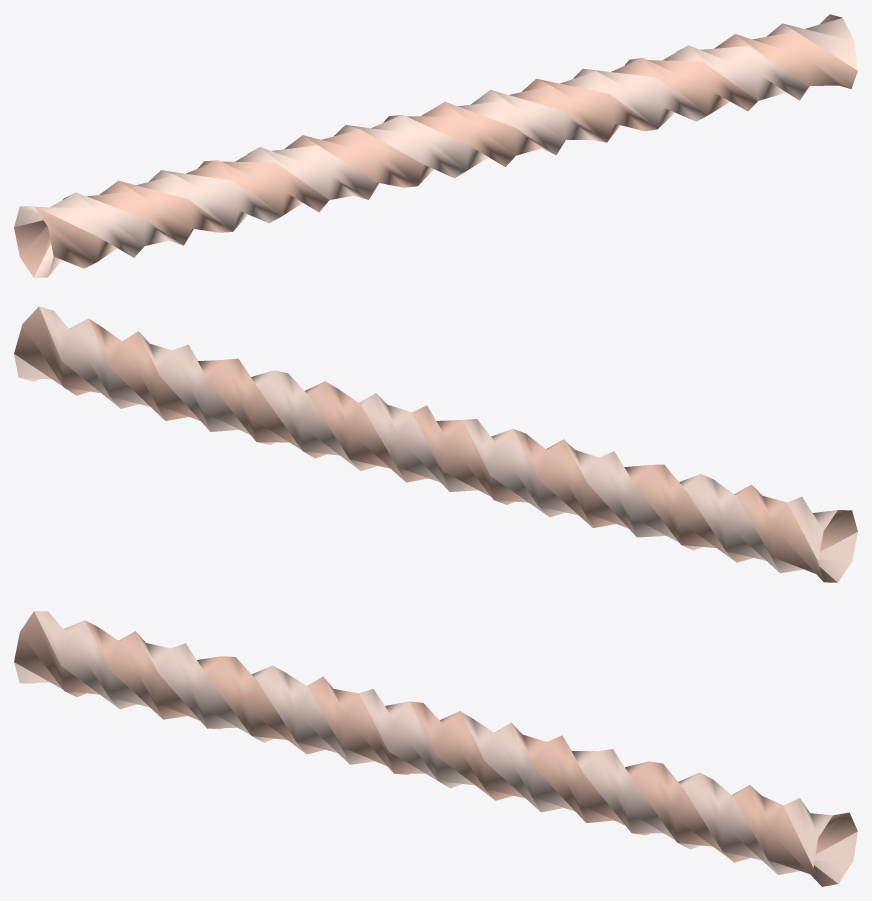
Rendered from Rope.fbx.
3 views of the same model, one above another, from view 1: azimuth 30°, elevation 25°; view 2: azimuth 150°, elevation 25°; view 3: azimuth 330°, elevation 25° (orthographic).
Visible parts, largest first — view 1: Rope; view 2: Rope; view 3: Rope.
Part boxes in pixels (bbox=[...]): Rope: bbox=[14, 14, 857, 277]; Rope: bbox=[14, 306, 857, 582]; Rope: bbox=[14, 611, 857, 886].
Size of the model in its own units: 302 by 25.83 by 30.45.
